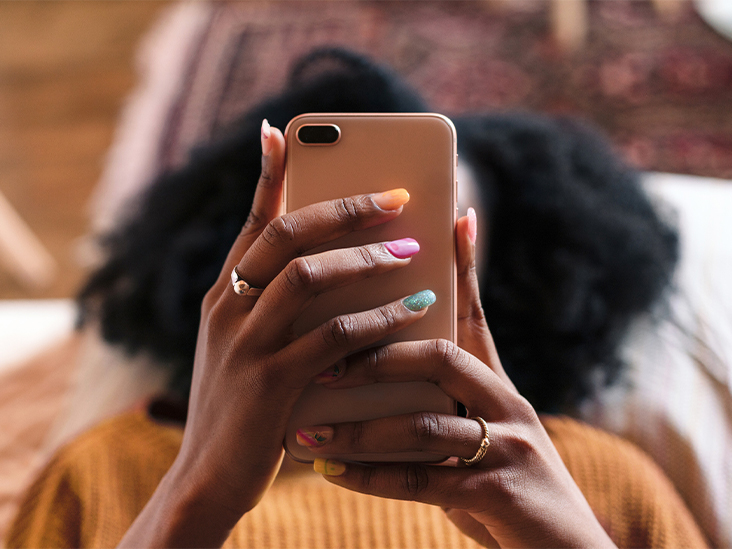phones: (269, 108, 471, 481)
